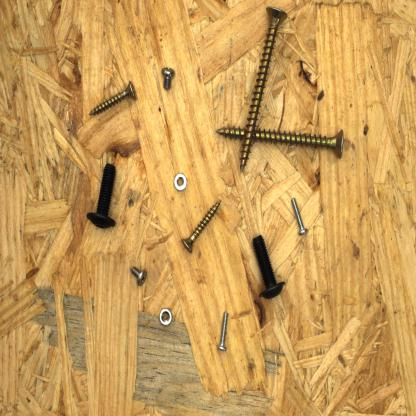screw: (238, 2, 290, 176), (213, 120, 348, 162), (246, 231, 288, 303), (178, 198, 224, 255), (84, 160, 118, 235), (85, 78, 139, 119), (286, 195, 310, 238), (215, 310, 231, 356), (126, 262, 150, 288), (158, 65, 177, 92)
